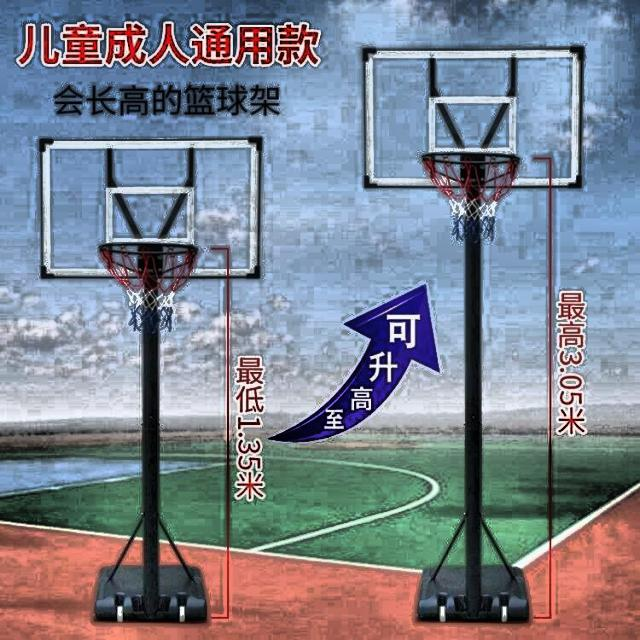rim: (425, 151, 520, 240)
